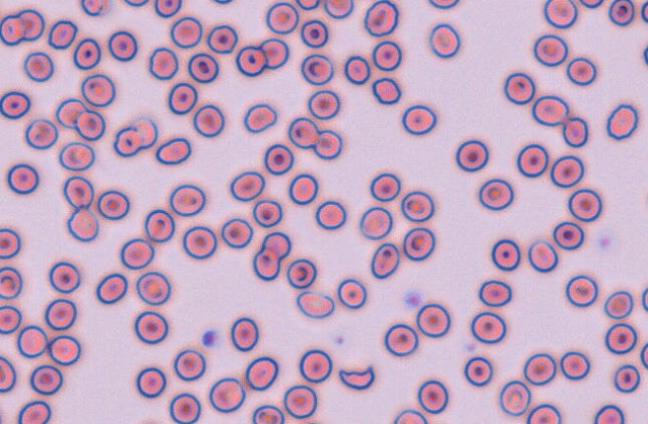PLT: (404, 292, 424, 309), (202, 330, 220, 347), (601, 234, 613, 250)
RBC: (208, 377, 245, 413), (363, 0, 398, 36), (135, 271, 171, 305), (283, 384, 317, 419), (80, 73, 115, 107), (567, 188, 602, 222), (298, 348, 332, 383), (415, 303, 450, 337), (182, 225, 217, 259), (470, 311, 506, 344), (169, 183, 205, 216), (606, 103, 638, 140), (531, 95, 569, 126), (550, 154, 584, 188), (134, 310, 168, 344), (66, 207, 99, 242), (245, 356, 278, 391), (499, 380, 531, 416), (478, 178, 514, 210), (384, 323, 418, 356), (402, 227, 435, 261), (533, 34, 568, 66), (229, 170, 265, 201), (58, 141, 95, 171), (359, 206, 392, 239), (523, 352, 556, 385), (565, 274, 598, 307), (455, 139, 488, 172), (400, 190, 434, 222), (516, 143, 548, 177), (120, 237, 154, 269), (417, 379, 448, 414), (429, 23, 460, 58), (401, 104, 436, 135), (370, 242, 399, 279), (169, 16, 202, 48), (16, 325, 48, 358), (265, 2, 298, 34), (300, 53, 333, 85), (192, 104, 224, 137), (604, 322, 637, 354), (63, 175, 94, 209), (24, 118, 58, 149), (47, 334, 81, 365), (287, 116, 319, 148), (503, 72, 535, 104), (173, 349, 205, 381), (44, 298, 76, 330), (95, 272, 127, 304), (48, 261, 80, 293), (30, 364, 63, 395), (220, 217, 253, 248), (144, 209, 175, 242), (148, 46, 178, 80), (230, 316, 259, 351), (155, 137, 191, 165), (169, 392, 201, 423), (527, 240, 558, 272), (187, 52, 219, 83), (263, 143, 294, 175), (7, 163, 39, 194), (97, 189, 129, 220), (307, 89, 340, 119), (55, 97, 86, 128), (235, 45, 266, 76), (23, 51, 54, 82), (259, 37, 289, 69), (75, 109, 105, 141), (288, 173, 318, 205), (167, 82, 197, 114), (136, 366, 166, 398), (314, 200, 346, 230), (491, 238, 520, 271), (543, 0, 577, 28), (107, 30, 137, 61), (371, 40, 401, 71), (286, 258, 316, 289), (206, 24, 238, 53), (552, 221, 584, 250), (17, 8, 45, 41), (73, 37, 101, 70), (478, 279, 511, 307), (47, 19, 77, 49), (113, 126, 142, 157), (369, 172, 400, 201), (566, 56, 597, 85), (463, 355, 492, 386), (559, 351, 590, 380), (252, 248, 280, 280), (313, 129, 342, 159), (0, 90, 30, 119), (603, 290, 633, 319), (337, 278, 366, 308), (261, 231, 291, 259), (252, 199, 282, 227), (300, 19, 328, 48), (562, 116, 588, 147), (613, 364, 640, 393), (343, 55, 370, 84), (0, 14, 25, 45), (132, 117, 157, 148), (18, 400, 51, 423), (0, 266, 22, 299), (608, 0, 635, 26), (526, 403, 561, 423), (0, 227, 21, 259), (0, 305, 22, 334), (251, 404, 284, 423), (0, 355, 16, 392), (593, 404, 624, 423), (323, 0, 353, 18), (154, 0, 181, 18), (393, 409, 427, 423), (80, 0, 109, 16), (428, 0, 459, 9), (295, 0, 319, 10), (579, 0, 604, 8), (640, 342, 647, 369), (123, 0, 149, 7), (640, 1, 648, 23), (641, 286, 647, 311), (643, 43, 648, 66), (212, 0, 233, 4)
Schistocyte: (295, 290, 334, 317), (244, 105, 278, 133), (339, 367, 377, 389), (372, 79, 399, 105)
